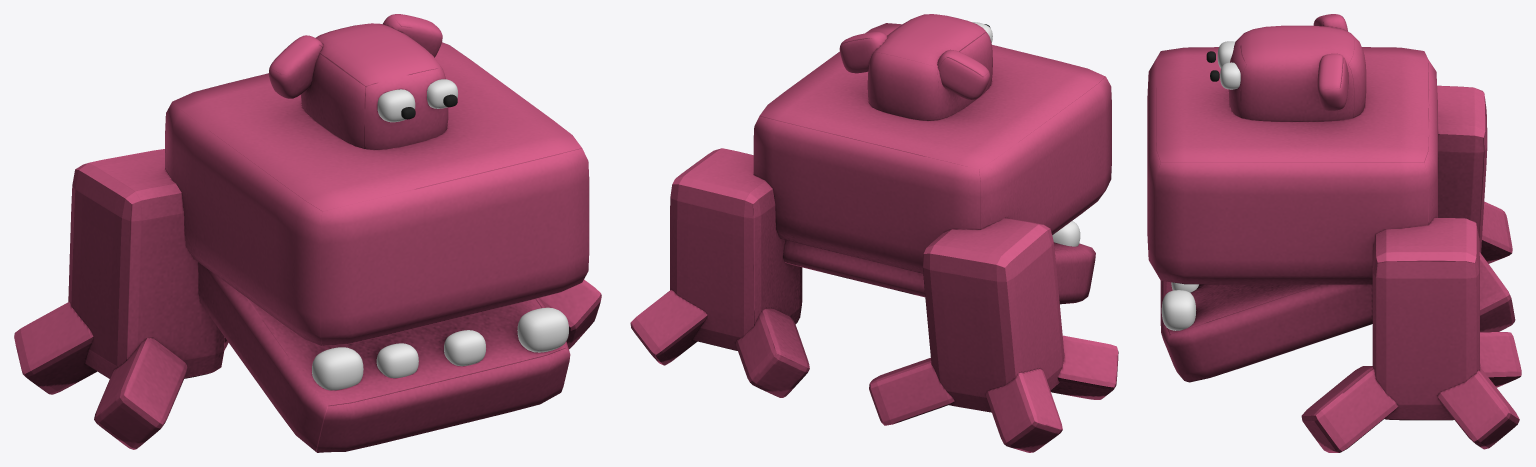
The model's file is hippo.glb.
3 views of the same model, side by side, from view 1: azimuth 30°, elevation 25°; view 2: azimuth 150°, elevation 25°; view 3: azimuth 270°, elevation 25° (orthographic). The views are drawn at different scales.
Visible parts, largest first — view 1: Cube.016; view 2: Cube.016; view 3: Cube.016.
Boxes of the visible parts, x1,y1,x2,y2 form: Cube.016: (14, 14, 601, 452); Cube.016: (630, 14, 1118, 452); Cube.016: (1147, 14, 1521, 452).
Bounding box in the file's own units: 1.74 × 1.25 × 1.29.
Materials: 3 (1 with a texture image).
